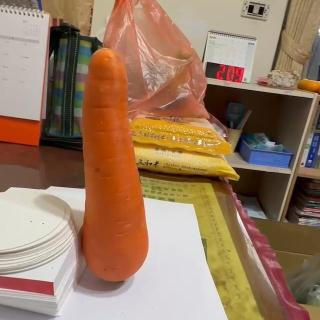carrot: (80, 45, 150, 284)
